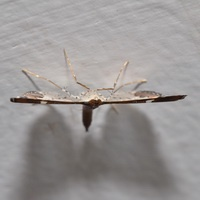insect: (10, 49, 186, 130)
